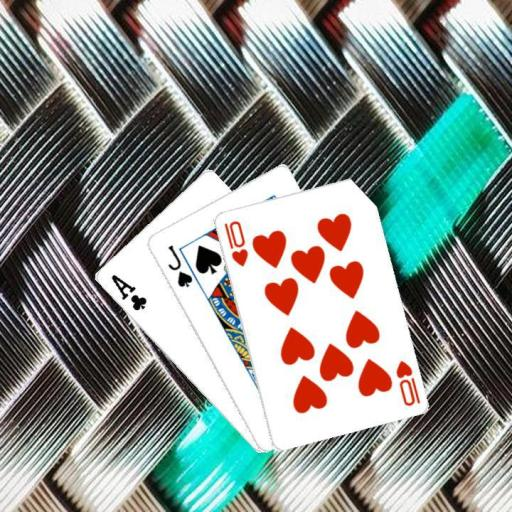10H: (392, 357, 422, 407), (221, 217, 250, 268)
AC: (107, 271, 148, 312)
JS: (164, 242, 194, 289)
